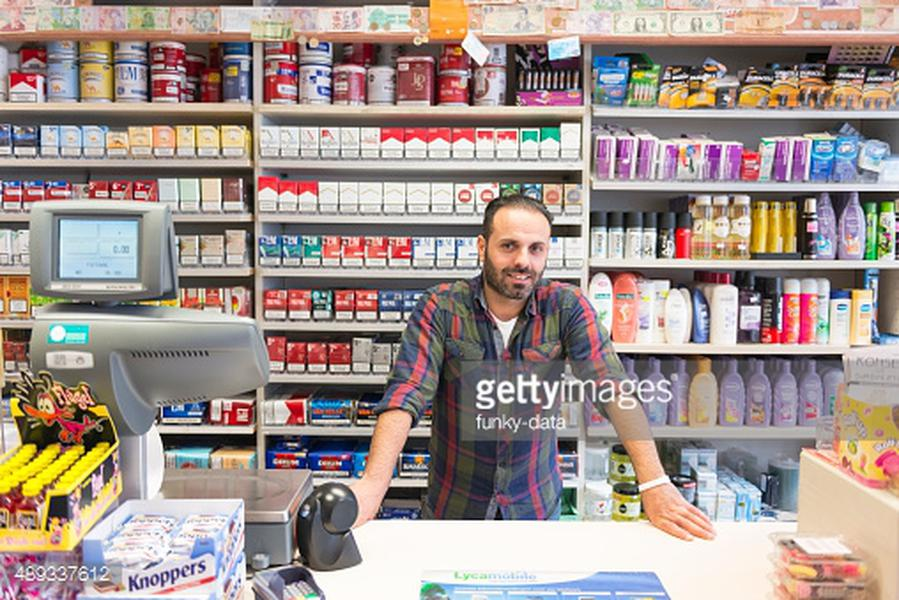lucky_strike_red: (478, 184, 498, 214), (455, 184, 473, 212)
marlboro_gold: (360, 182, 383, 216), (338, 182, 360, 216), (408, 182, 430, 216), (383, 184, 406, 216), (430, 182, 451, 216), (318, 184, 340, 214)
marlboro_mentol: (540, 127, 560, 161), (520, 129, 540, 162)
marlboro_red: (265, 401, 305, 426), (496, 127, 520, 161), (428, 127, 451, 161), (453, 129, 476, 162), (258, 177, 278, 214), (405, 129, 426, 161), (383, 129, 405, 159), (296, 181, 318, 211), (476, 129, 495, 161), (281, 181, 296, 212)
